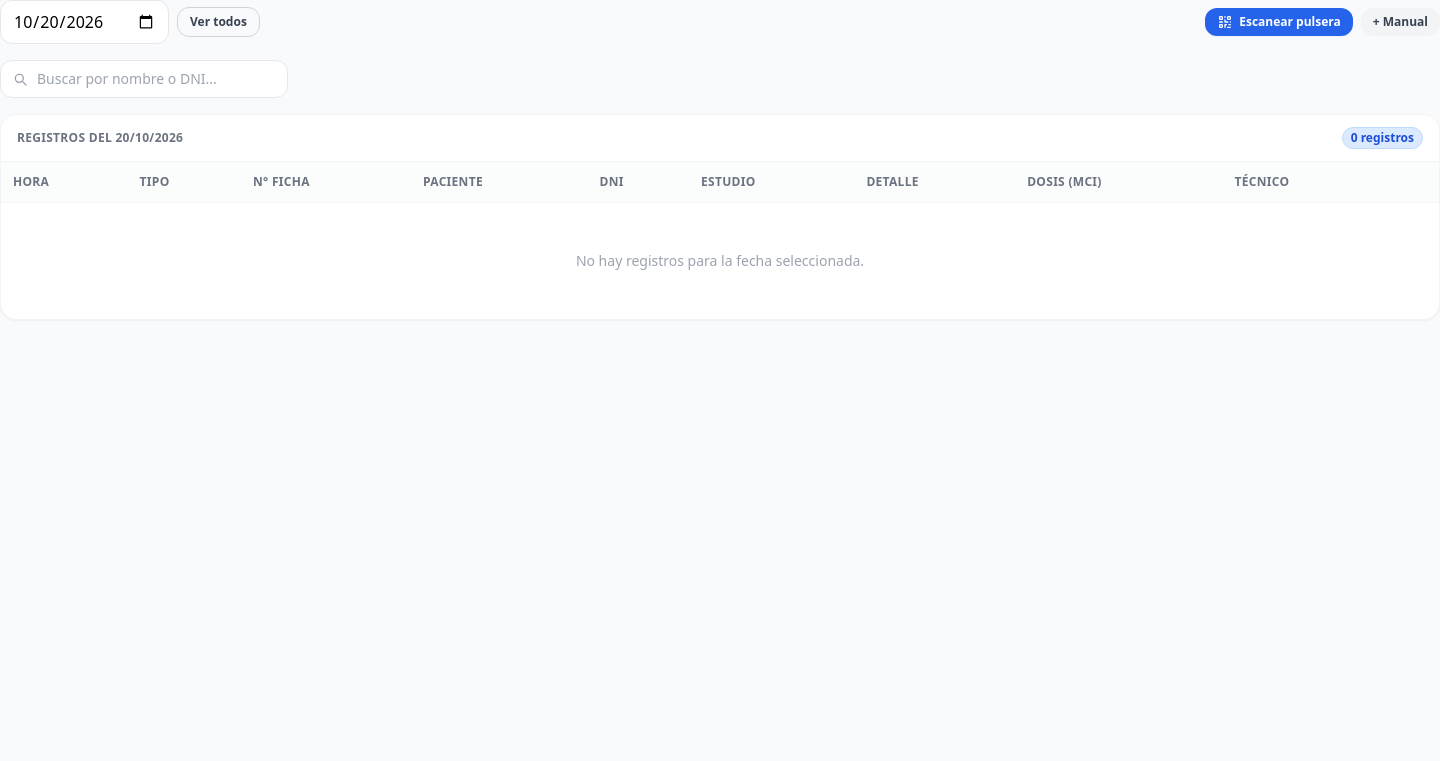
it: TabPacientes -- aviso informativo de I-131 previo por DNI › muestra el aviso -- registro de I-131 no anulado del mismo DNI, dentro de los últimos 10 días
Click the button "+ Manual": (1400, 22) [1361,8,1439,36]
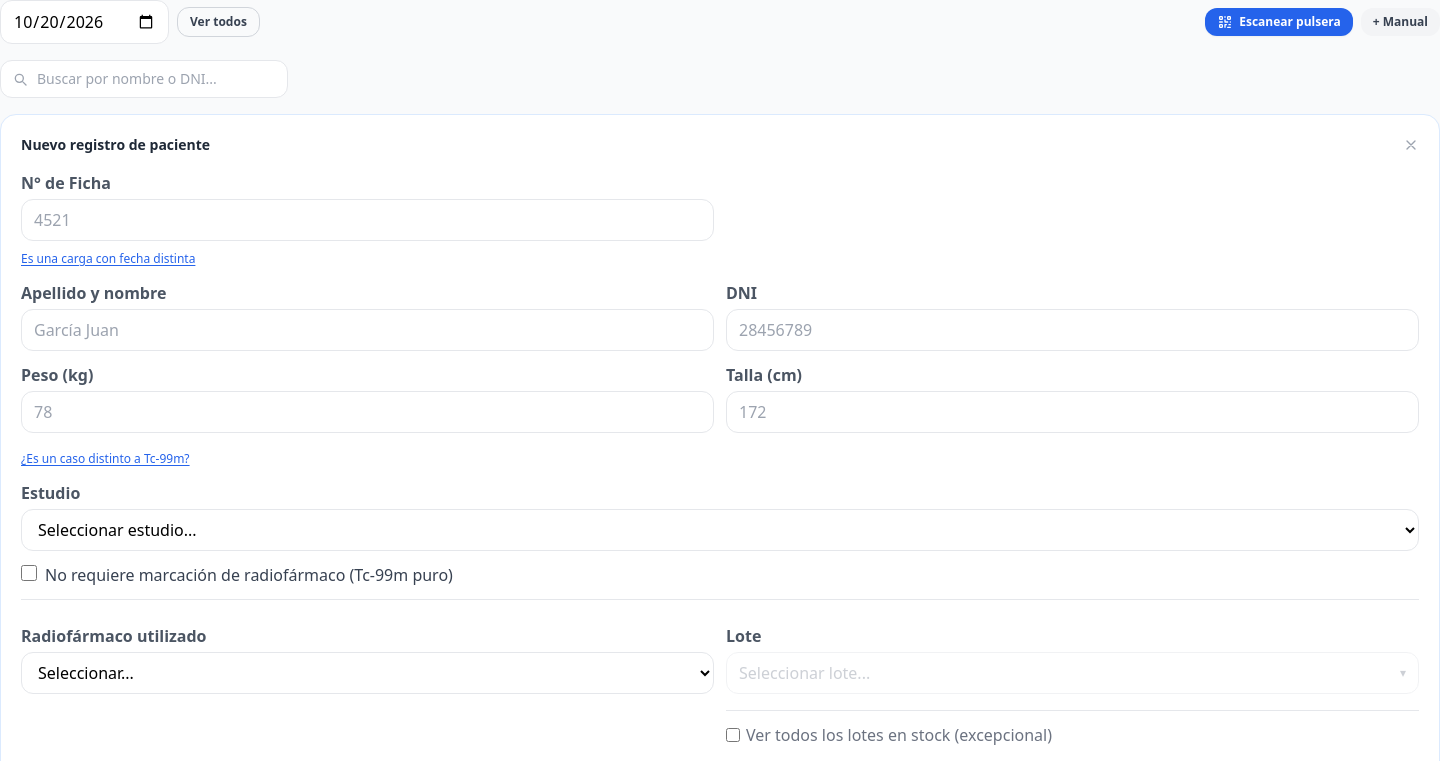
In the field with placeholder "28456789": (1072, 330) [726,309,1419,351], type "12345678"
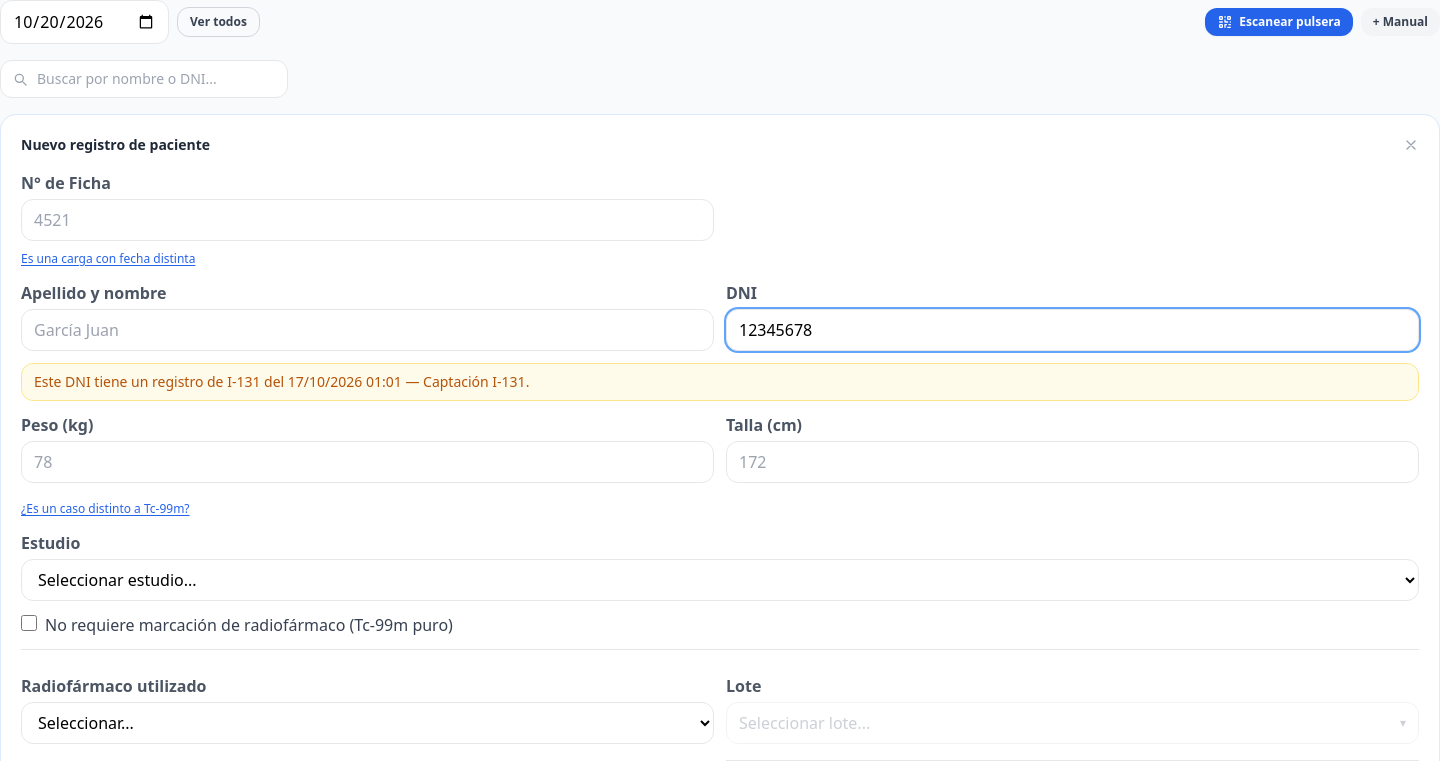
Now the text "Este DNI tiene un registro de I-131" is shown, box [34,372,288,391]
Now the text "Captación" is shown, box [423,372,526,391]
